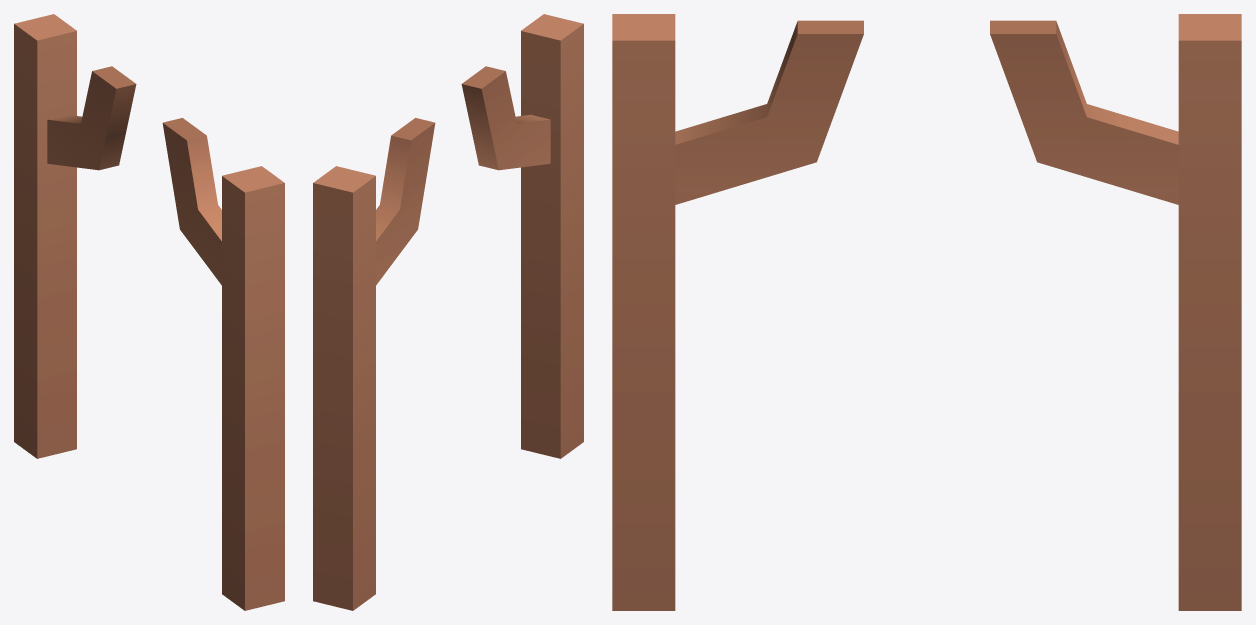
Rendered from kenney-fantasy-town-balcony-wall.glb.
The picture shows the model from 3 angles, left to right: view 1: azimuth 30°, elevation 25°; view 2: azimuth 150°, elevation 25°; view 3: azimuth 270°, elevation 25°; orthographic projection. The views are drawn at different scales.
Visible parts, largest first — view 1: balcony-wall; view 2: balcony-wall; view 3: balcony-wall.
Part boxes in pixels (x1=…): balcony-wall: x1=14, y1=14, x2=284, y2=610; balcony-wall: x1=313, y1=14, x2=583, y2=610; balcony-wall: x1=612, y1=14, x2=1241, y2=610.
Size of the model in its own units: 0.1 by 1 by 1.
Materials: 1 (1 with a texture image).
